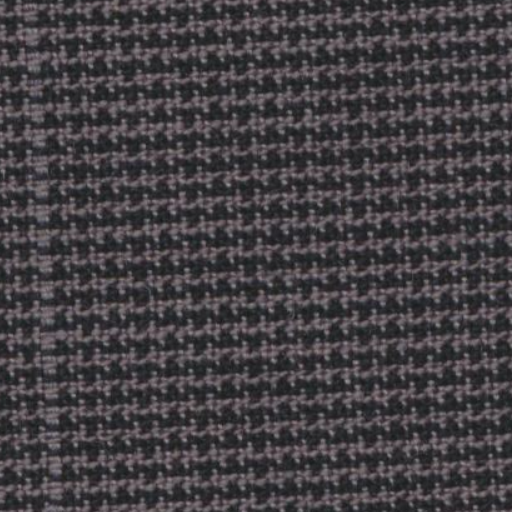TuoSha: (8, 10, 92, 491)
